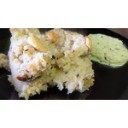venpongal: (11, 28, 92, 100)
